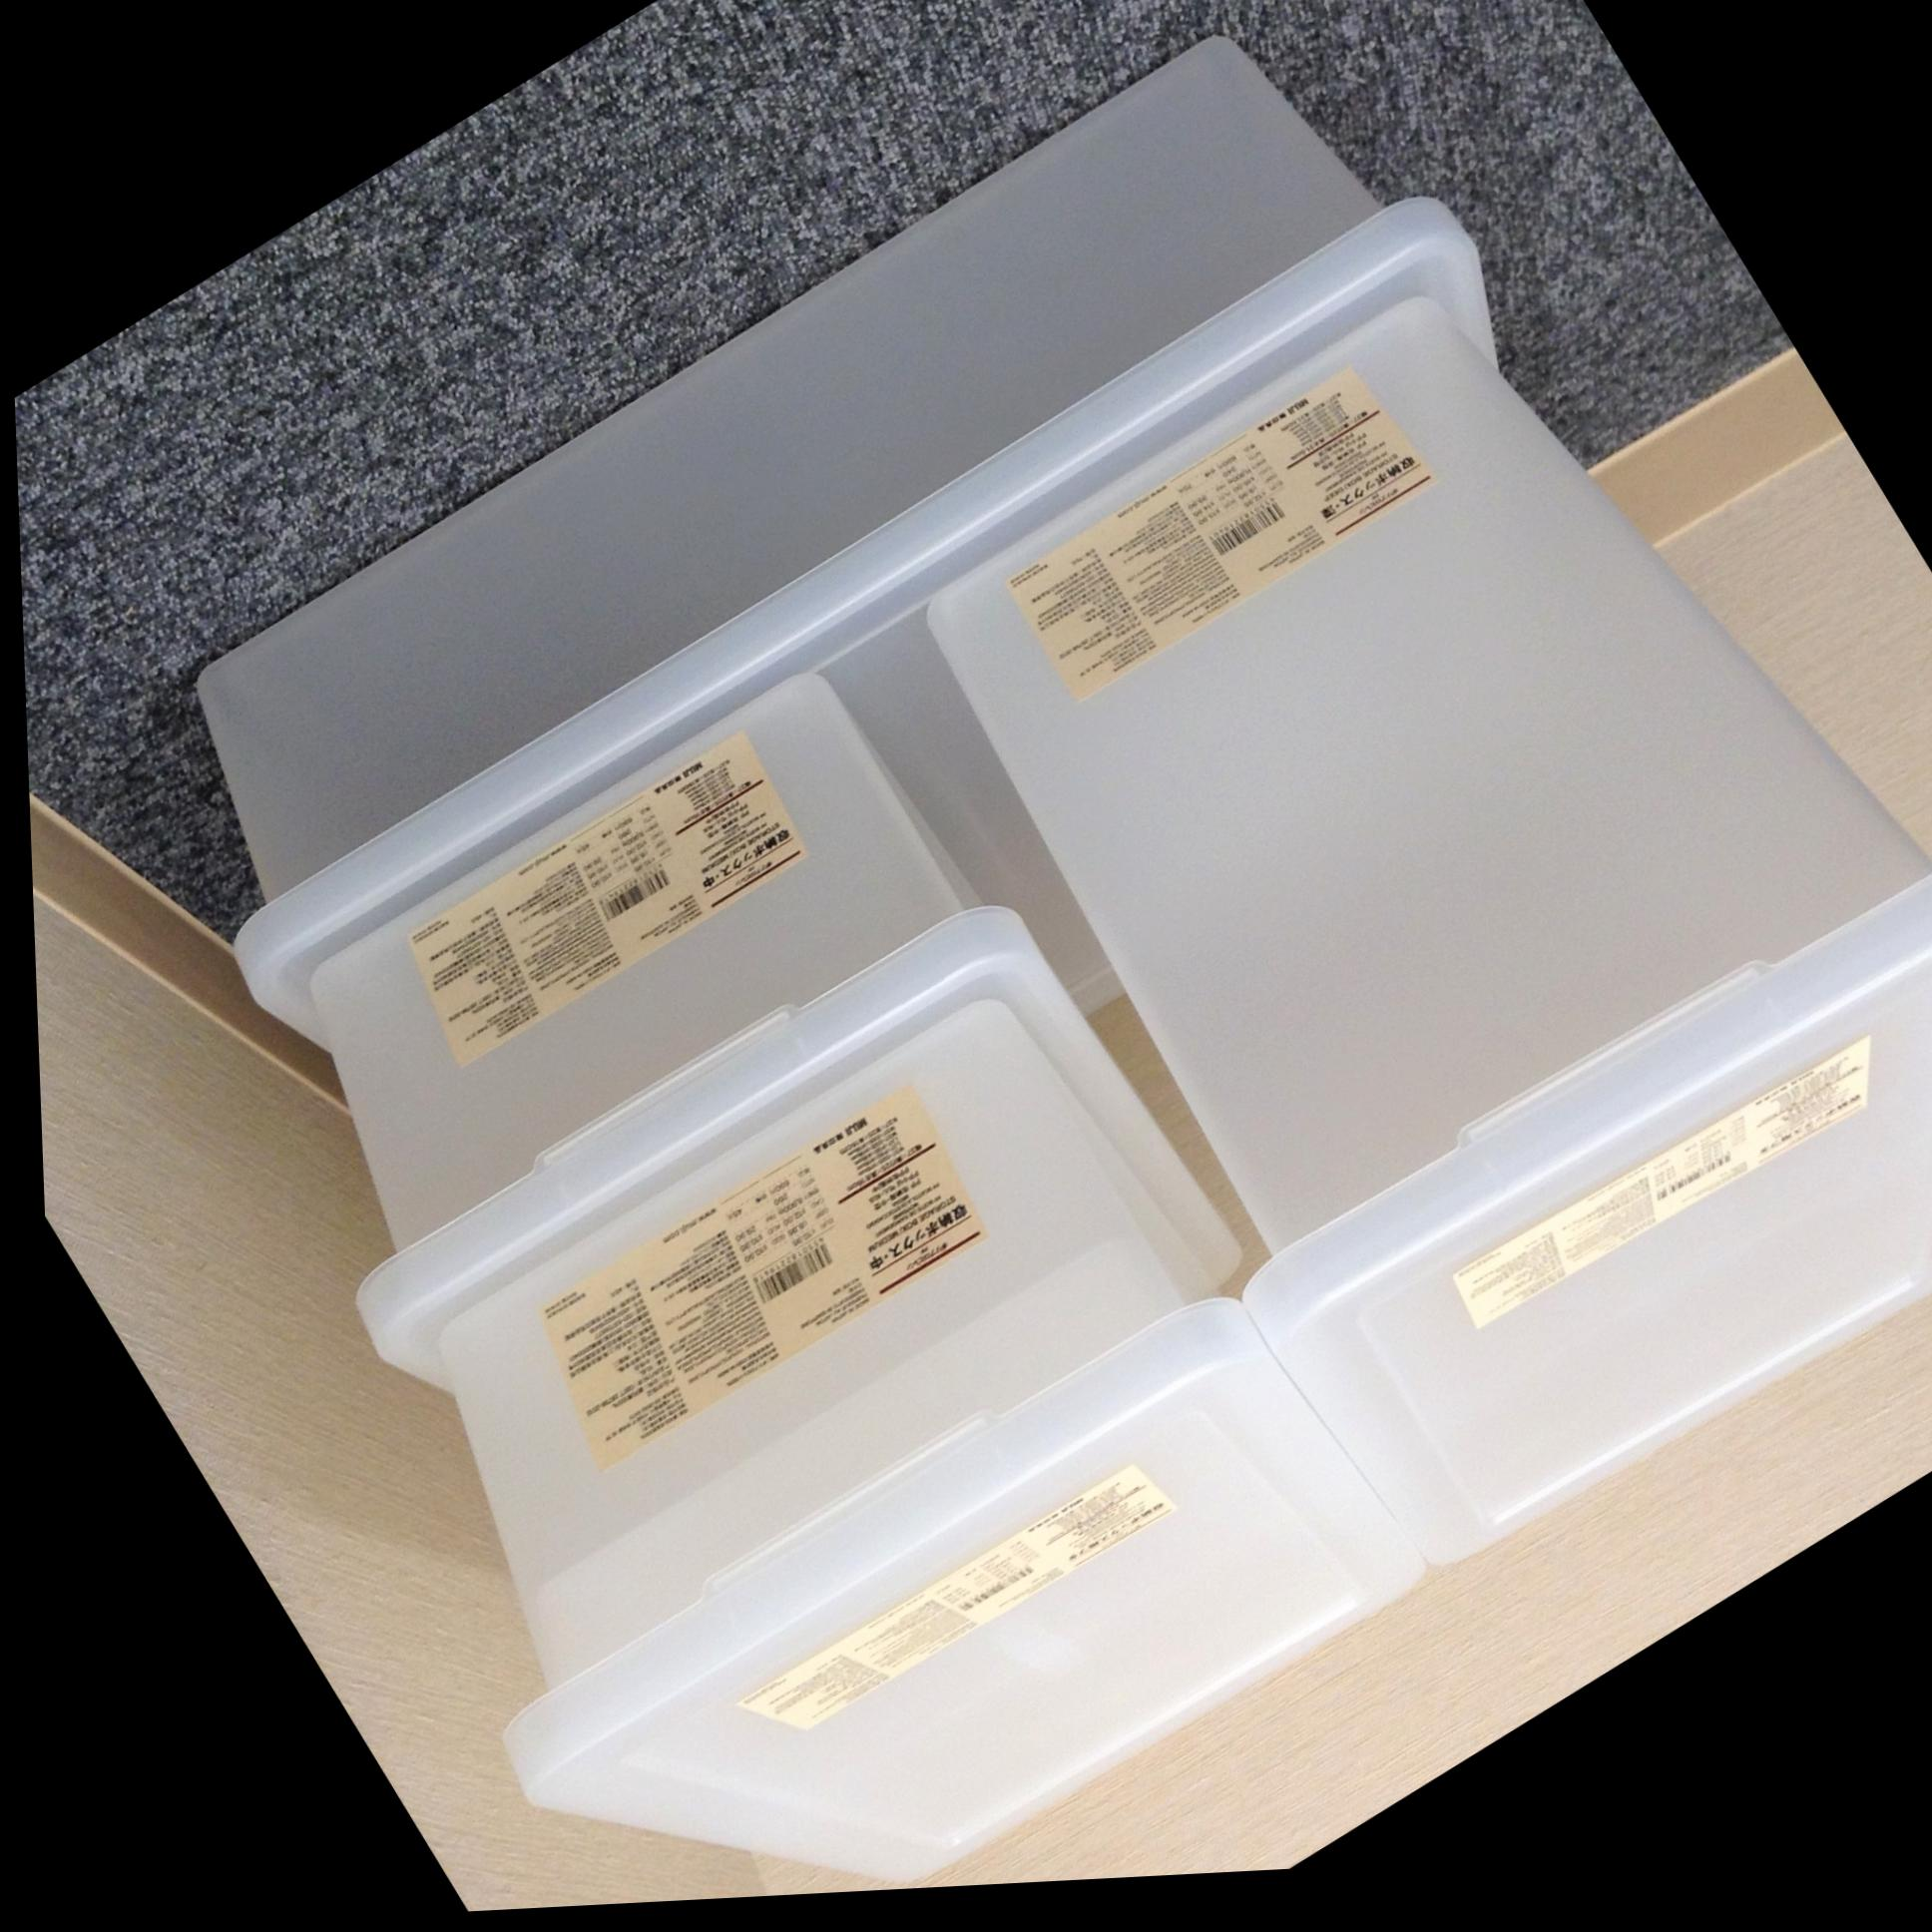plastic: (870, 203, 1930, 1557), (361, 908, 1421, 1884), (241, 676, 964, 1244)
